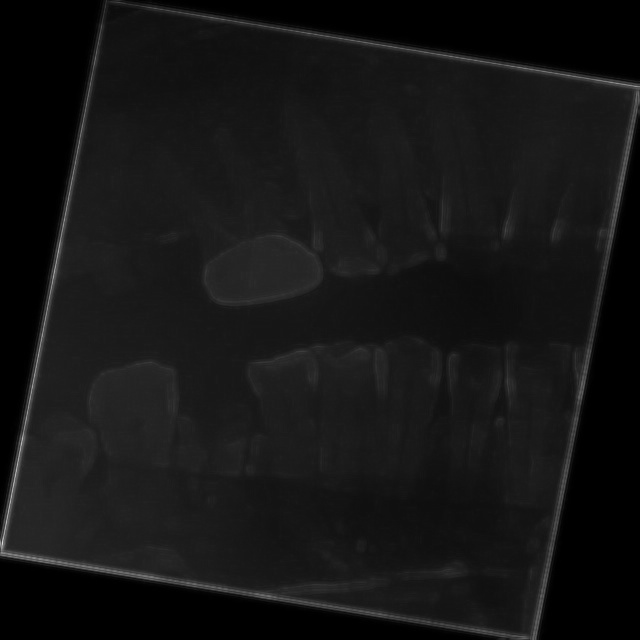Class 2- incomplete endodontic treatment: (107, 88, 363, 335)
